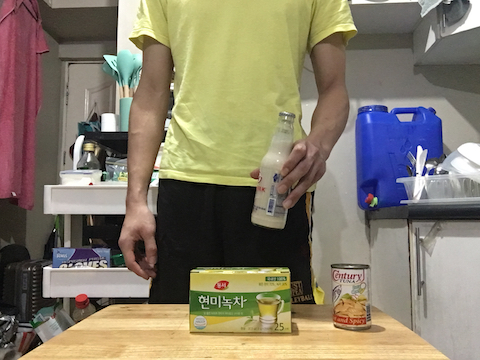bottle: (246, 105, 305, 234)
box: (186, 262, 297, 338)
can: (330, 260, 378, 334)
grab: (269, 141, 325, 210)
